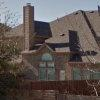Chimney: (16, 1, 41, 47)
